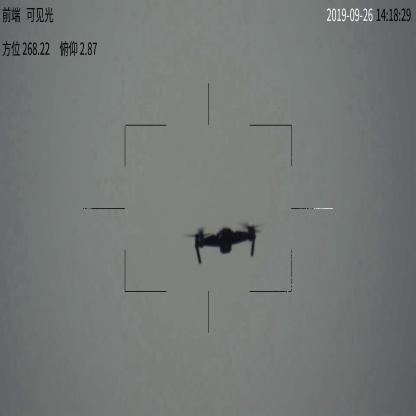uav: (182, 219, 272, 266)
